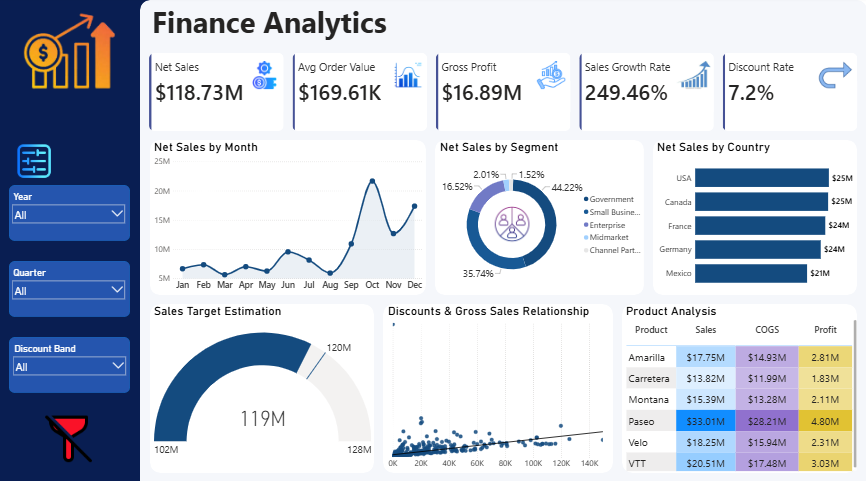

The page's visual inventory and layout, read from the dashboard file:
{"tool":"powerbi","page":{"name":"Page 1","canvas":[2160,1200],"ordinal":0},"visuals":[{"type":"shape","box":[0,0,407.2,1250],"z":0},{"type":"shape","box":[350.1,0,1810.2,1250],"z":1000},{"type":"cardVisual","fields":{"Data":["Measures Table.Total Sales","Measures Table.Avg Order Value","Measures Table.Gross Profit","Measures Table.Sales Growth Rate","Measures Table.Discount %"]},"box":[358.5,117,1795,224.1],"z":2000},{"type":"image","box":[614.9,151.9,92.1,69.7],"z":3000},{"type":"image","box":[973.4,151.9,89.6,69.7],"z":4000},{"type":"image","box":[1683,151.9,92.1,69.7],"z":5000},{"type":"image","box":[1332,151.9,84.6,69.7],"z":6000},{"type":"shape","box":[375.9,348.5,687.1,385.9],"z":7000},{"type":"areaChart","title":"Net Sales by Month","fields":{"Y":["Sum(Sheet1.Net Sales)"],"Category":["Sheet1.Month"]},"box":[380.9,348.5,679.7,385.9],"z":8000},{"type":"shape","box":[1085.5,348.5,520.3,385.9],"z":9000},{"type":"donutChart","title":"Net Sales by Segment","fields":{"Category":["Sheet1.Segment"],"Y":["Sum(Sheet1.Net Sales)"]},"box":[1092.9,348.5,520.3,385.9],"z":10000},{"type":"image","box":[1229.9,512.9,94.6,89.6],"z":11000},{"type":"shape","box":[1628.2,348.5,507.9,385.9],"z":12000},{"type":"barChart","fields":{"Y":["Measures Table.Net Sales"],"Category":["Sheet1.Country"]},"box":[1633.2,348.5,504,385.9],"z":13000},{"type":"shape","box":[375.9,756.8,557.7,420.7],"z":14000},{"type":"gauge","title":"Sales Target Estimation","fields":{"TargetValue":["Sheet1.Sales Target"],"Y":["Sum(Sheet1.Net Sales)"],"MinValue":["Sum(Sheet1.COGS)"],"MaxValue":["Sum(Sheet1.Gross Sales)"]},"box":[380.9,756.8,551,420.7],"z":15000},{"type":"shape","box":[956,756.8,572.6,420.7],"z":16000},{"type":"scatterChart","title":"Discounts & Gross Sales Relationship","fields":{"X":["Sheet1.Discounts"],"Y":["Sum(Sheet1.Gross Sales)"]},"box":[963.5,756.8,567,420.7],"z":17000},{"type":"image","box":[2036.5,151.9,92.1,69.7],"z":18000},{"type":"shape","box":[1551,756.8,585.1,420.7],"z":19000},{"type":"tableEx","title":"Product Analysis","fields":{"Values":["Sheet1.Product","Measures Table.Net Sales","Measures Table.Total COGS","Measures Table.Total Profit"]},"box":[1556,756.8,585.1,420.7],"z":20000},{"type":"textbox","box":[375.9,0,622.4,117],"z":21000},{"type":"shape","box":[24.9,461.6,301.2,139.4],"z":22000},{"type":"slicer","fields":{"Values":["Sheet1.Year"]},"box":[22.4,470.5,301.2,119.5],"z":23000},{"type":"shape","box":[24.9,650.8,301.2,139.4],"z":24000},{"type":"slicer","fields":{"Values":["Sheet1.Date.Variation.Date Hierarchy.Quarter"]},"box":[22.4,660.8,301.2,119.5],"z":25000},{"type":"shape","box":[24.9,840,301.2,139.4],"z":26000},{"type":"slicer","fields":{"Values":["Sheet1.Discount Band"]},"box":[24.9,850,301.2,119.5],"z":27000},{"type":"image","box":[24.9,19.9,301.2,214.1],"z":30000},{"type":"image","box":[34.9,353.5,104.6,94.6],"z":31000},{"type":"image","box":[72.2,1030.7,201.7,124.5],"z":31001}]}

Visuals, with their boxes in screenshot pixels (x1, y1, x2, y2), scaled from the page's 2160x1200 canvas onto the 866x481 screenshot:
shape: detection(0, 0, 163, 480)
shape: detection(140, 0, 865, 480)
cardVisual - Measures Table.Total Sales x Measures Table.Avg Order Value: detection(144, 47, 863, 137)
image: detection(247, 61, 283, 89)
image: detection(390, 61, 426, 89)
image: detection(675, 61, 712, 89)
image: detection(534, 61, 568, 89)
shape: detection(151, 140, 426, 294)
"Net Sales by Month" areaChart: detection(153, 140, 425, 294)
shape: detection(435, 140, 644, 294)
"Net Sales by Segment" donutChart: detection(438, 140, 647, 294)
image: detection(493, 206, 531, 242)
shape: detection(653, 140, 856, 294)
barChart - Measures Table.Net Sales x Sheet1.Country: detection(655, 140, 857, 294)
shape: detection(151, 303, 374, 472)
"Sales Target Estimation" gauge: detection(153, 303, 374, 472)
shape: detection(383, 303, 613, 472)
"Discounts & Gross Sales Relationship" scatterChart: detection(386, 303, 614, 472)
image: detection(816, 61, 853, 89)
shape: detection(622, 303, 856, 472)
"Product Analysis" tableEx: detection(624, 303, 858, 472)
textbox: detection(151, 0, 400, 47)
shape: detection(10, 185, 131, 241)
slicer - Sheet1.Year: detection(9, 189, 130, 236)
shape: detection(10, 261, 131, 317)
slicer - Sheet1.Date.Variation.Date Hierarchy.Quarter: detection(9, 265, 130, 313)
shape: detection(10, 337, 131, 393)
slicer - Sheet1.Discount Band: detection(10, 341, 131, 389)
image: detection(10, 8, 131, 94)
image: detection(14, 142, 56, 180)
image: detection(29, 413, 110, 463)
